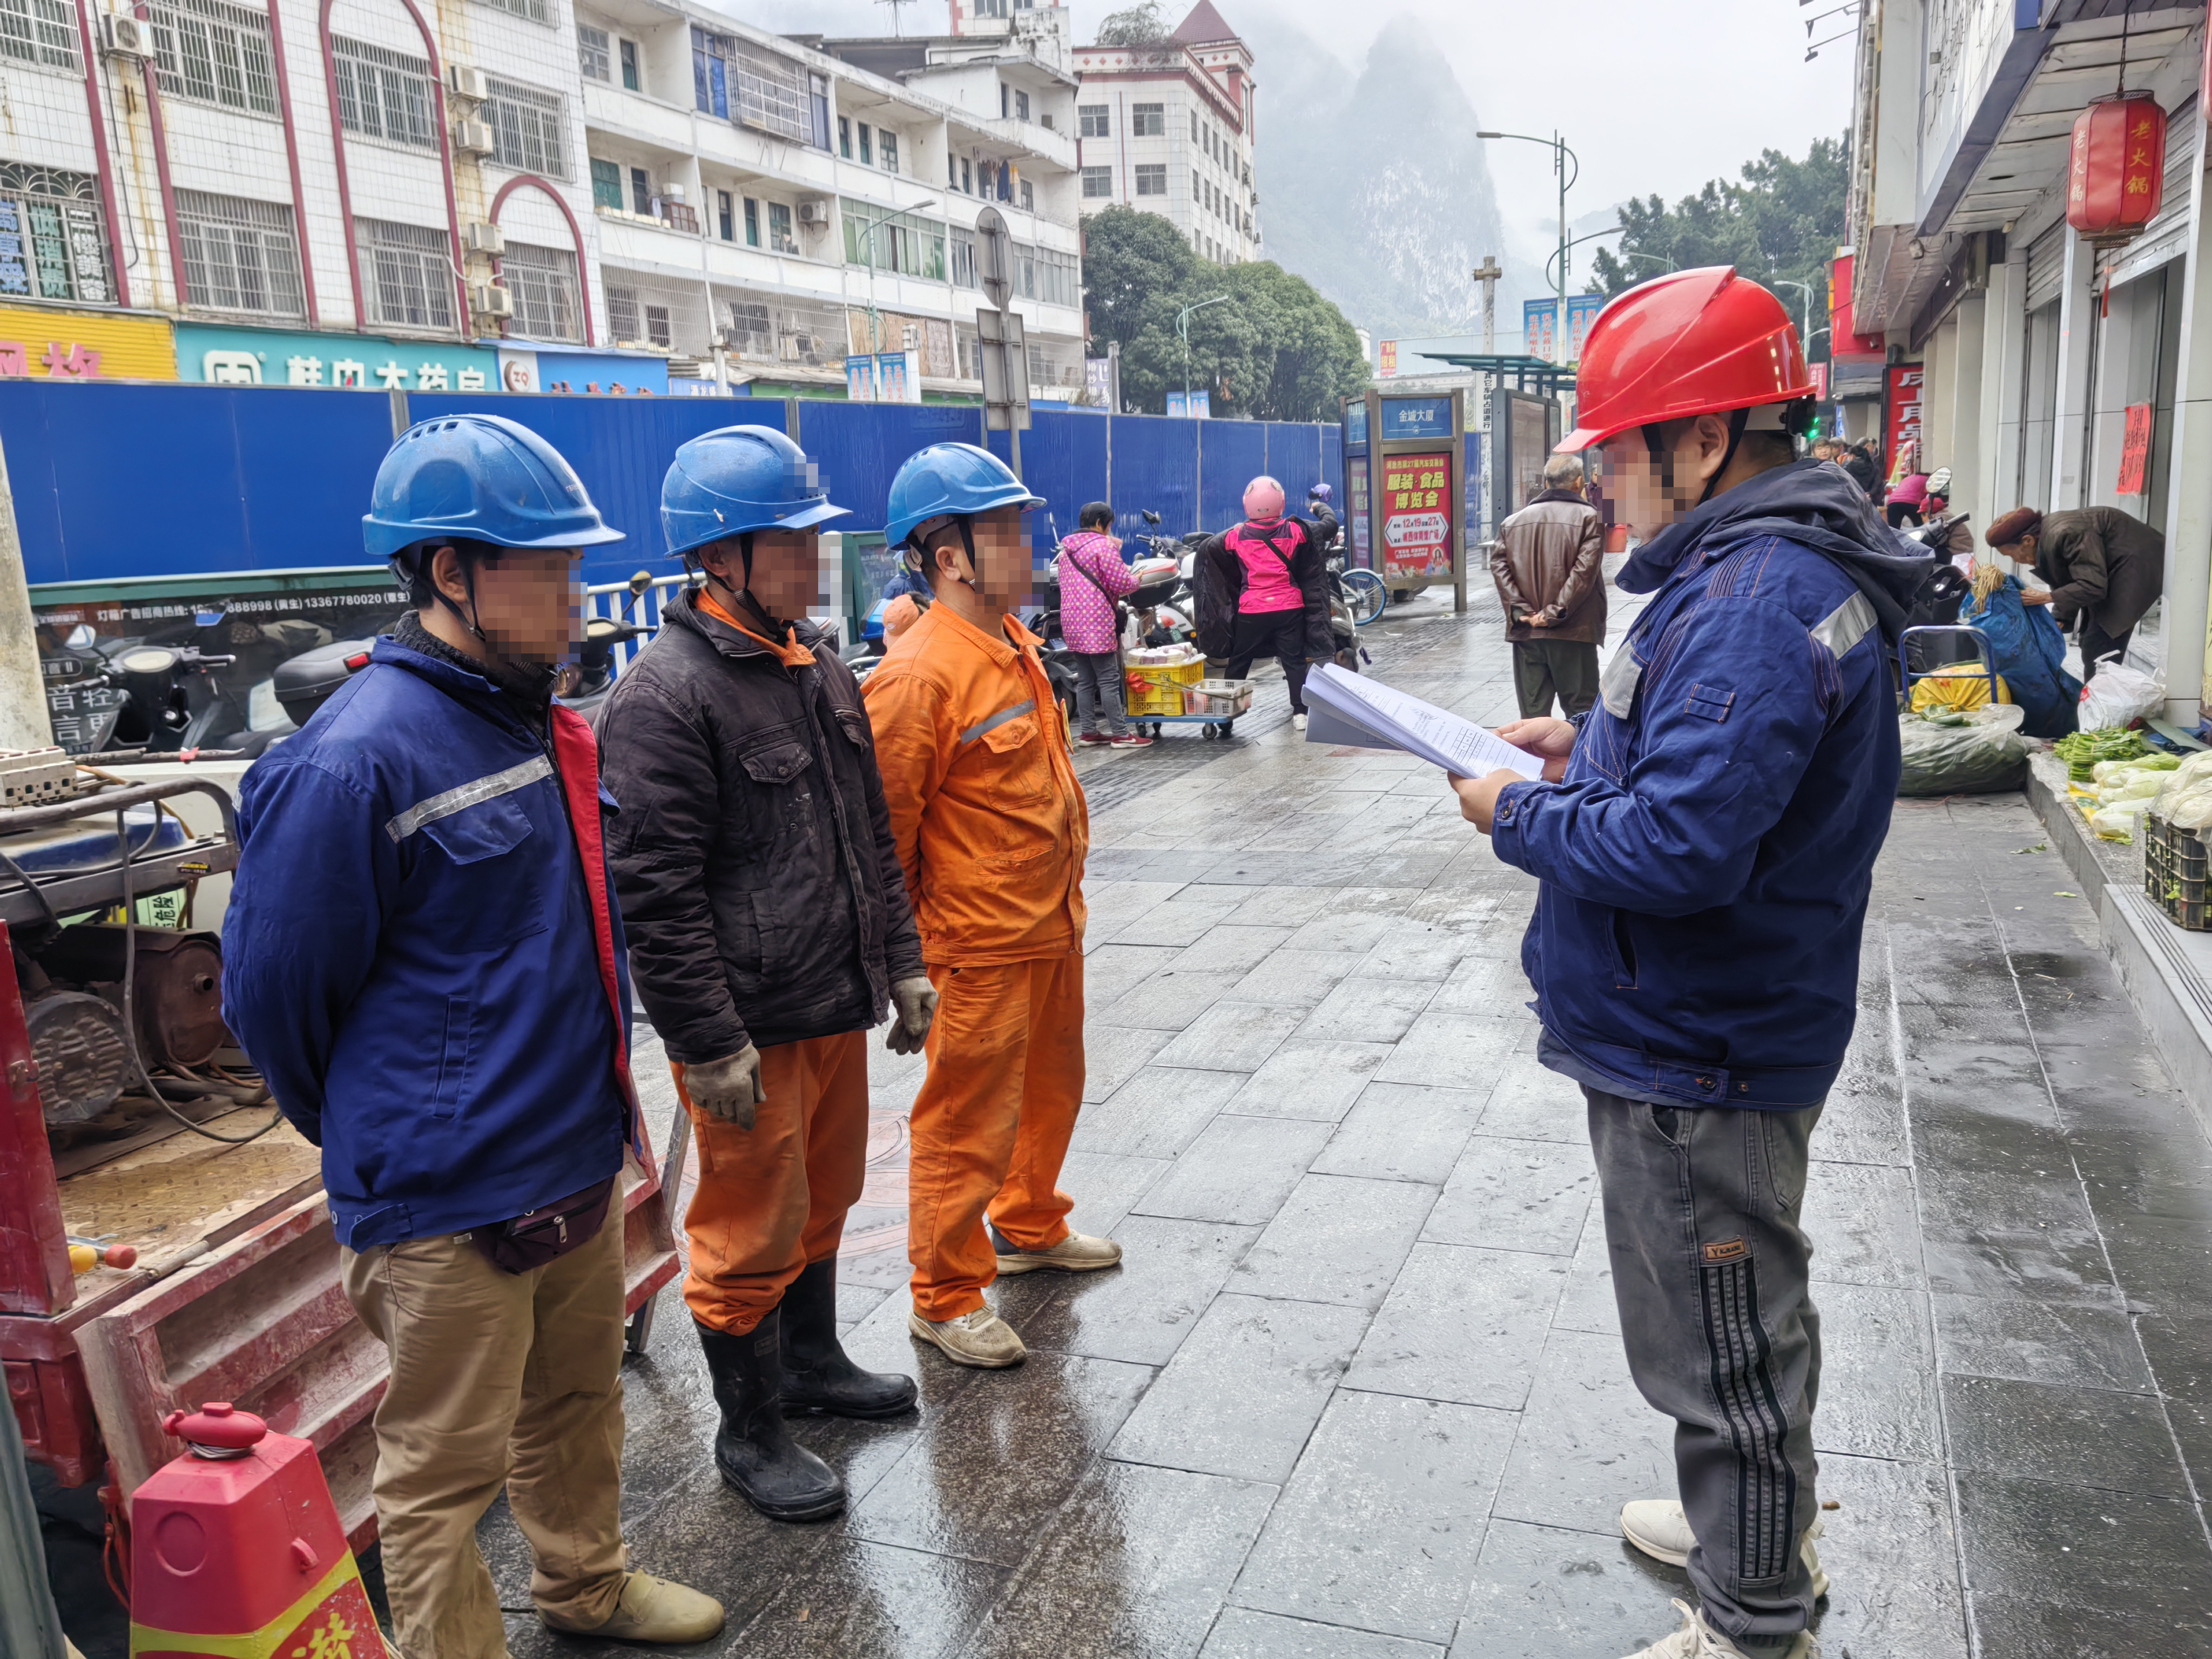downcloth: (1583, 1094, 1836, 1641), (361, 1199, 631, 1659), (1499, 636, 1598, 711), (1225, 617, 1313, 696), (1071, 652, 1127, 733)
halt: (365, 416, 604, 675), (1577, 268, 1819, 505), (656, 423, 845, 631), (886, 438, 1041, 599)
hand: (1508, 717, 1584, 777), (1442, 753, 1509, 818), (2024, 586, 2048, 609), (1526, 611, 1547, 630)
inear: (1636, 415, 1741, 525), (408, 549, 506, 643), (916, 524, 989, 611), (690, 536, 765, 616)
person: (1474, 265, 1952, 1654), (219, 414, 690, 1658), (613, 433, 926, 1544), (867, 434, 1119, 1353), (1195, 470, 1328, 746), (1984, 483, 2135, 670), (1495, 456, 1598, 714), (1047, 491, 1148, 744)
shoe: (696, 1331, 846, 1516), (787, 1277, 921, 1419)
unhalt: (1983, 509, 2036, 564), (1243, 474, 1289, 524), (1073, 498, 1114, 537), (1540, 455, 1582, 491)
upcloth: (1499, 478, 1959, 1102), (229, 645, 669, 1226), (603, 621, 926, 1033), (2042, 502, 2165, 630), (1491, 504, 1601, 636), (1054, 530, 1133, 651), (1220, 523, 1310, 615)
wglove: (685, 1061, 758, 1118), (892, 975, 935, 1048)
ydownsuit: (901, 972, 1094, 1286), (667, 1046, 875, 1323)
yupsuit: (870, 596, 1080, 939)
